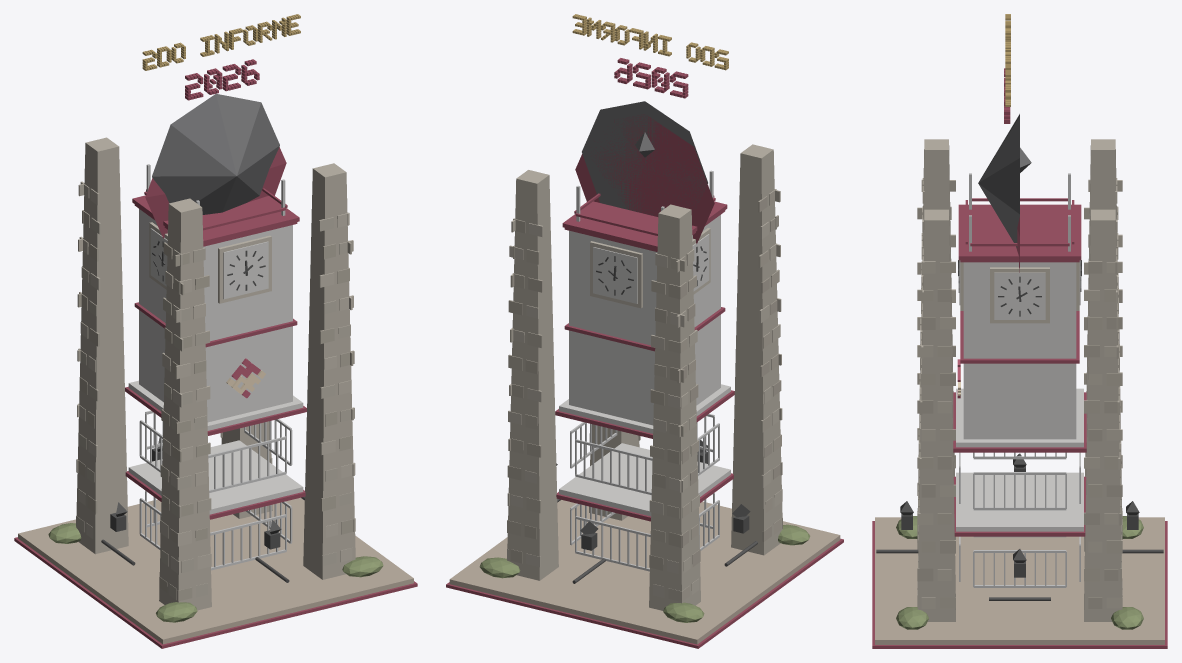
The model's file is reloj_monumento_ar_v3.glb.
3 renders of one model, left to right at view 1: azimuth 30°, elevation 25°; view 2: azimuth 150°, elevation 25°; view 3: azimuth 270°, elevation 25°, orthographic.
Visible parts, largest first — view 1: reloj_monumento; view 2: reloj_monumento; view 3: reloj_monumento.
Boxes of the visible parts, x1,y1,x2,y2 form: reloj_monumento: [14, 14, 417, 648]; reloj_monumento: [446, 14, 843, 648]; reloj_monumento: [872, 14, 1167, 648].
Size of the model in its own units: 1.18 by 2.35 by 1.18.
